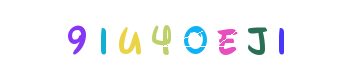0: (140, 0, 220, 80)
4: (127, 0, 207, 80)
9: (89, 0, 169, 80)
E: (143, 0, 223, 80)
I: (105, 0, 185, 80), (218, 0, 298, 80)
J: (186, 0, 266, 80)
U: (118, 0, 198, 80)
